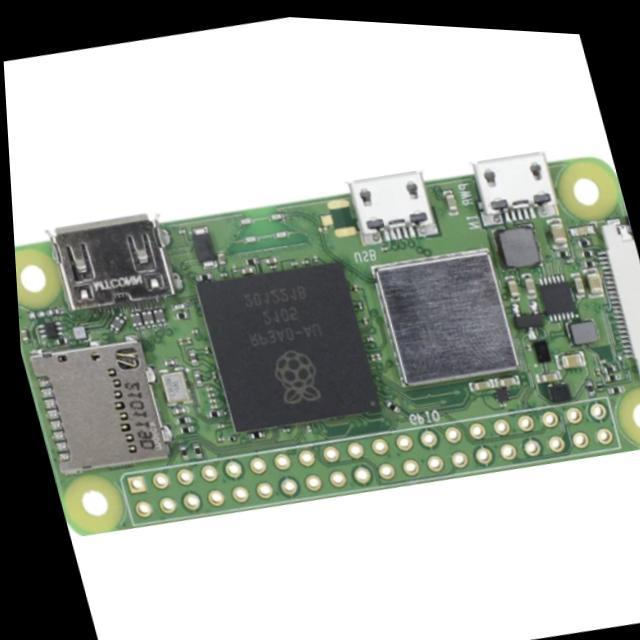Raspberry-Pi-Zero-2-W: (17, 154, 640, 534)
